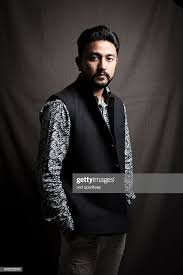Indian_Male: (77, 33, 124, 92)
